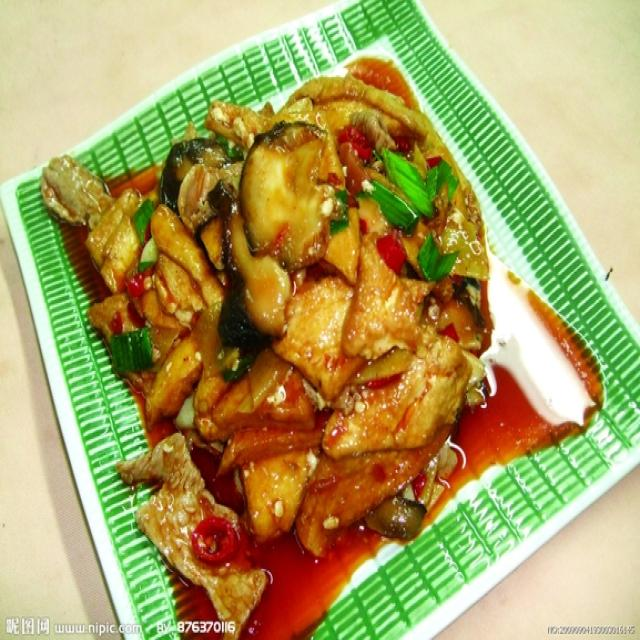豆腐料理: (31, 37, 571, 618)
